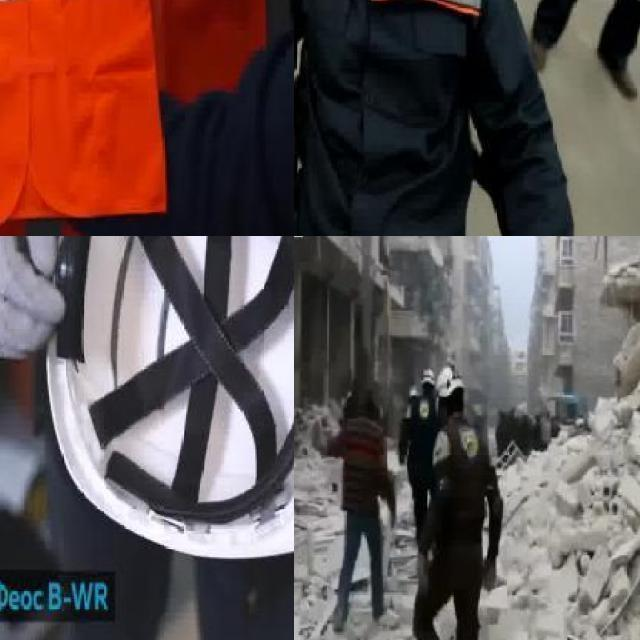apron: (0, 236, 66, 365)
